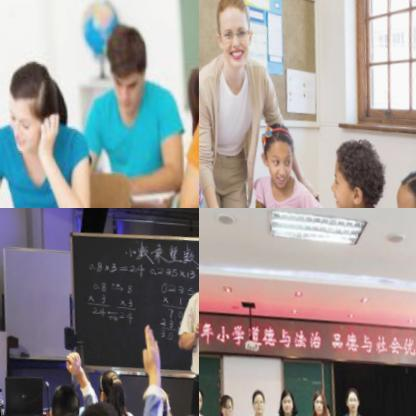head: (0, 64, 68, 165), (90, 15, 155, 119), (314, 129, 386, 208), (207, 0, 258, 73), (251, 124, 296, 198), (178, 39, 199, 139), (380, 158, 416, 208), (89, 371, 125, 416), (40, 383, 78, 416), (301, 390, 323, 416), (242, 388, 262, 416), (336, 388, 355, 416), (270, 390, 290, 416), (210, 395, 230, 416)
